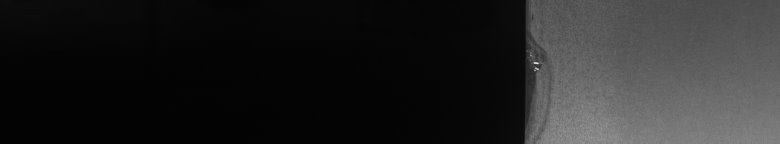hb: (536, 39, 556, 136)
